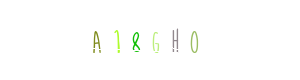1: (95, 0, 175, 80)
8: (106, 0, 186, 80)
A: (56, 0, 136, 80)
G: (110, 0, 190, 80)
H: (113, 0, 193, 80)
O: (135, 0, 215, 80)
